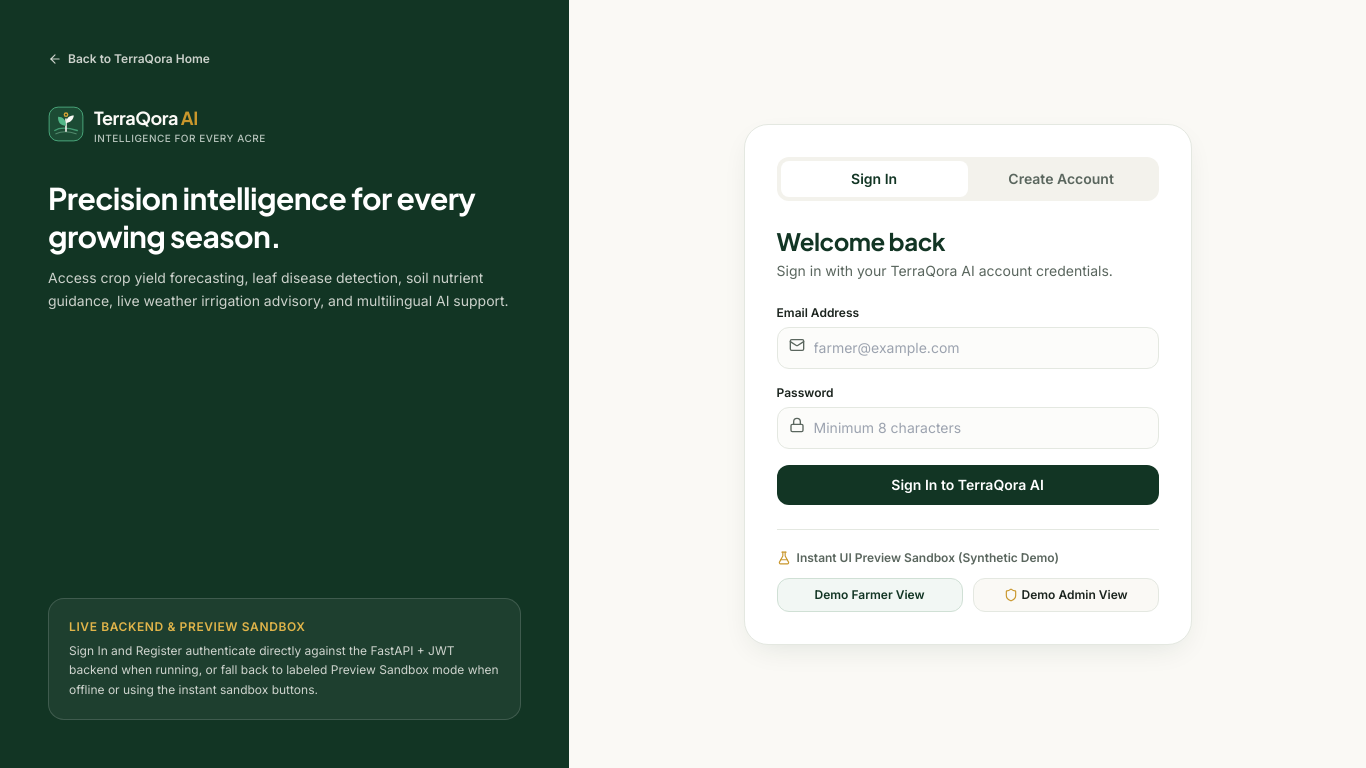
it: TerraQora AI — Phase 3 Frontend Suite › allows Demo Farmer sandbox login, displays dashboard, and hides admin console
Click the button "Demo Farmer View": (870, 594) left=777, top=578, right=963, bottom=612
(page scrolled)
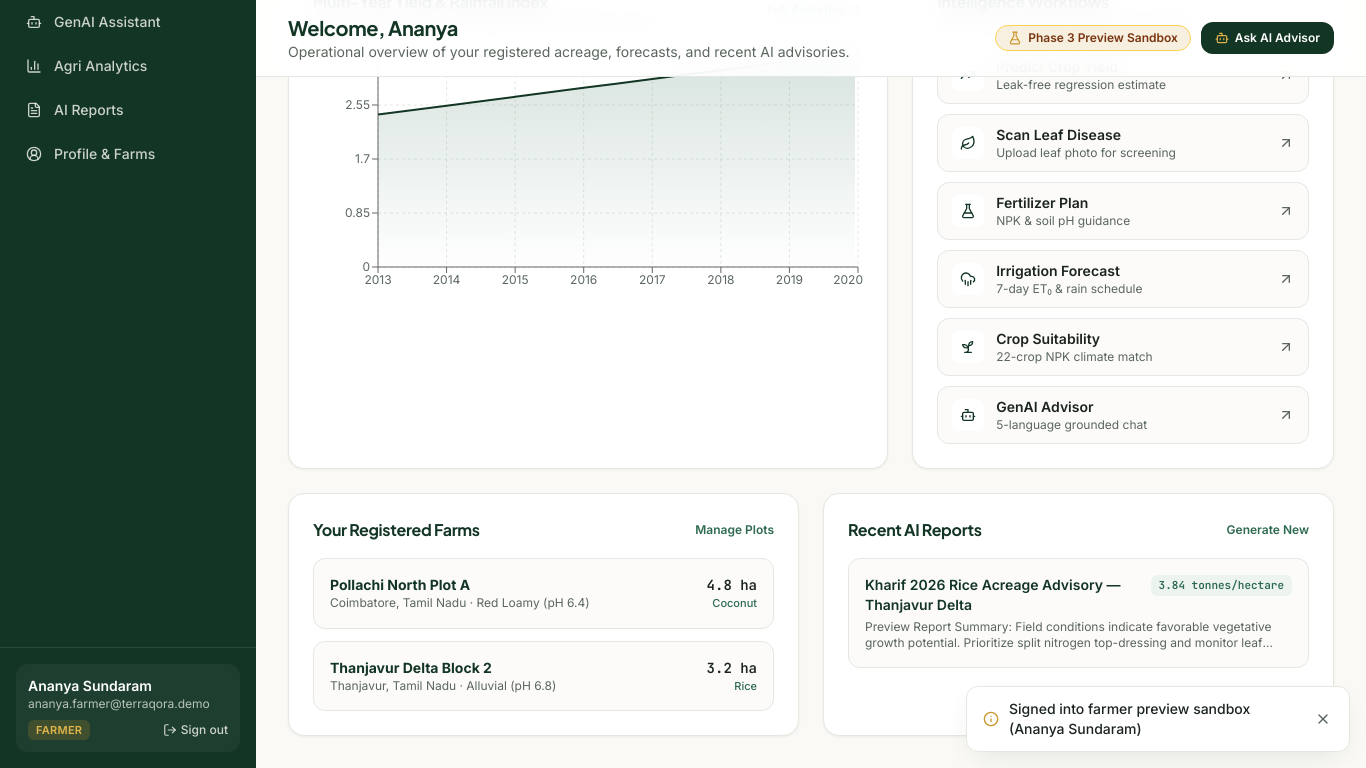
Expected: the text "Pollachi North Plot A" is shown, left=330, top=576, right=470, bottom=593
